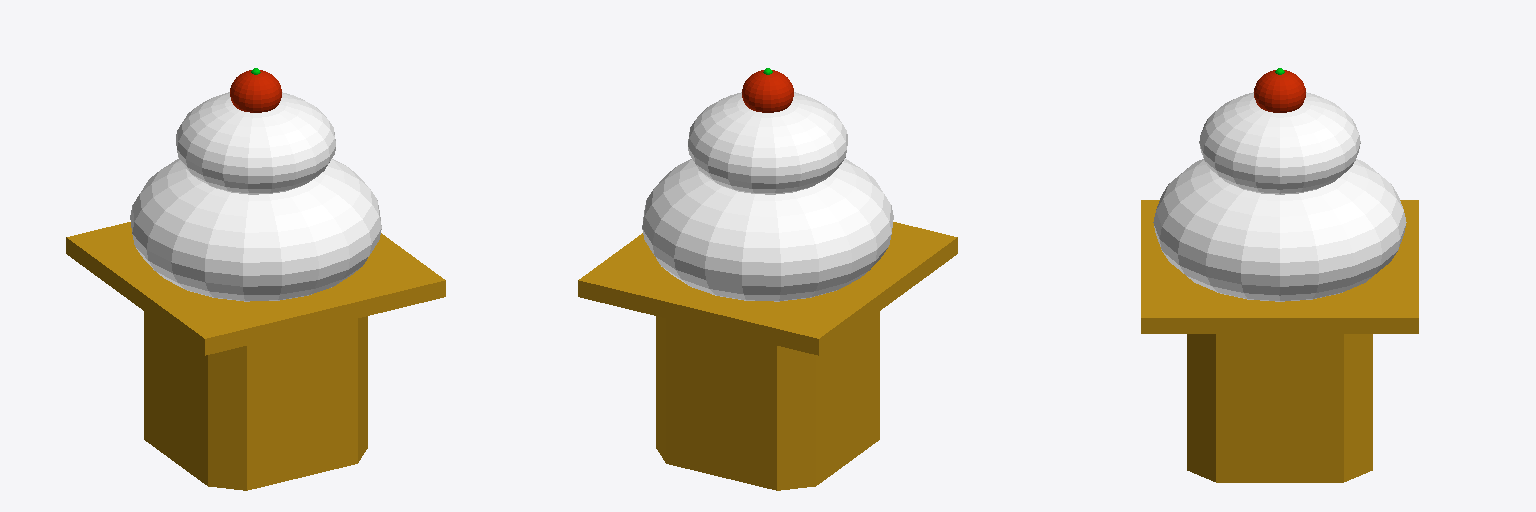
Rendered from mochi.obj.
The picture shows the model from 3 angles: view 1: azimuth 30°, elevation 25°; view 2: azimuth 150°, elevation 25°; view 3: azimuth 270°, elevation 25°; orthographic projection.
Parts seen in each view (by area): view 1: Cube, Sphere, Cube.001, Sphere.001, Sphere.002; view 2: Cube, Sphere, Cube.001, Sphere.001, Sphere.002; view 3: Cube, Sphere, Cube.001, Sphere.001, Sphere.002.
Part boxes in pixels (x1,y1,x2,y2): Cube: (144, 311, 367, 490); Sphere: (130, 159, 381, 301); Cube.001: (66, 222, 445, 355); Sphere.001: (176, 92, 335, 194); Sphere.002: (230, 70, 281, 112); Cube: (656, 311, 879, 490); Sphere: (642, 159, 893, 301); Cube.001: (578, 222, 957, 355); Sphere.001: (688, 92, 847, 194); Sphere.002: (742, 70, 793, 112); Cube: (1187, 334, 1372, 482); Sphere: (1153, 159, 1406, 301); Cube.001: (1141, 200, 1418, 333); Sphere.001: (1199, 92, 1360, 194); Sphere.002: (1254, 70, 1305, 112).
Bounding box in the file's own units: 0.75 × 1.12 × 0.75.